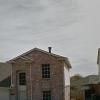Chimney: (46, 41, 54, 62)
